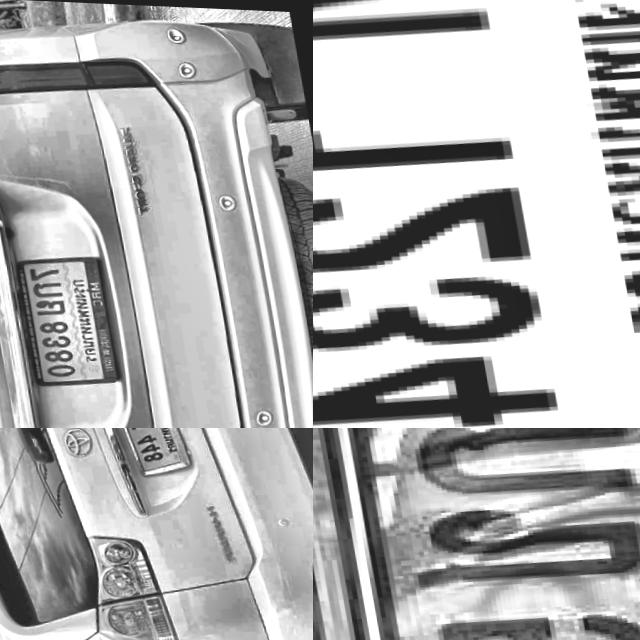license-plate: (313, 0, 640, 428), (313, 428, 640, 640), (6, 244, 120, 387), (103, 428, 193, 476)
